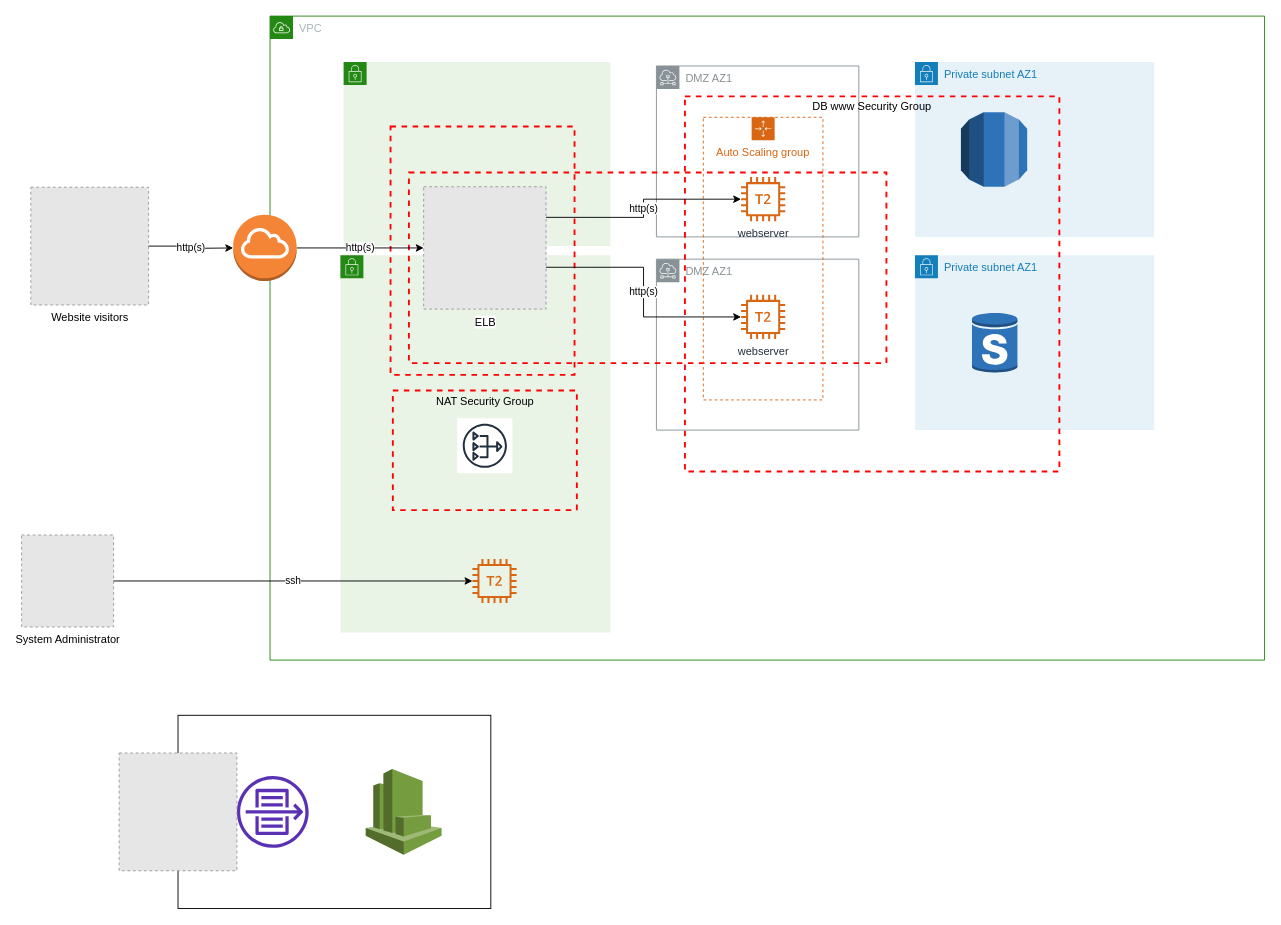
This 1281x925 diagram has some shape labels left out. Grey dashed boxes stand in for pictures. The shapes that lost their labels are listed below. From the top down, each one's box as (x1, y1, x2, y2) in pixels, then its label:
(343, 61, 610, 246): Public subnet AZ1
(389, 125, 575, 375): ELB Security Group
(408, 171, 887, 364): elb www Security Group
(339, 254, 610, 632): Public subnet AZ2
(456, 417, 512, 473): NAT gateway
(472, 558, 516, 603): bastion host / jump box
(177, 714, 491, 908): vpc flow logs trust policy to CloudWatch logs
